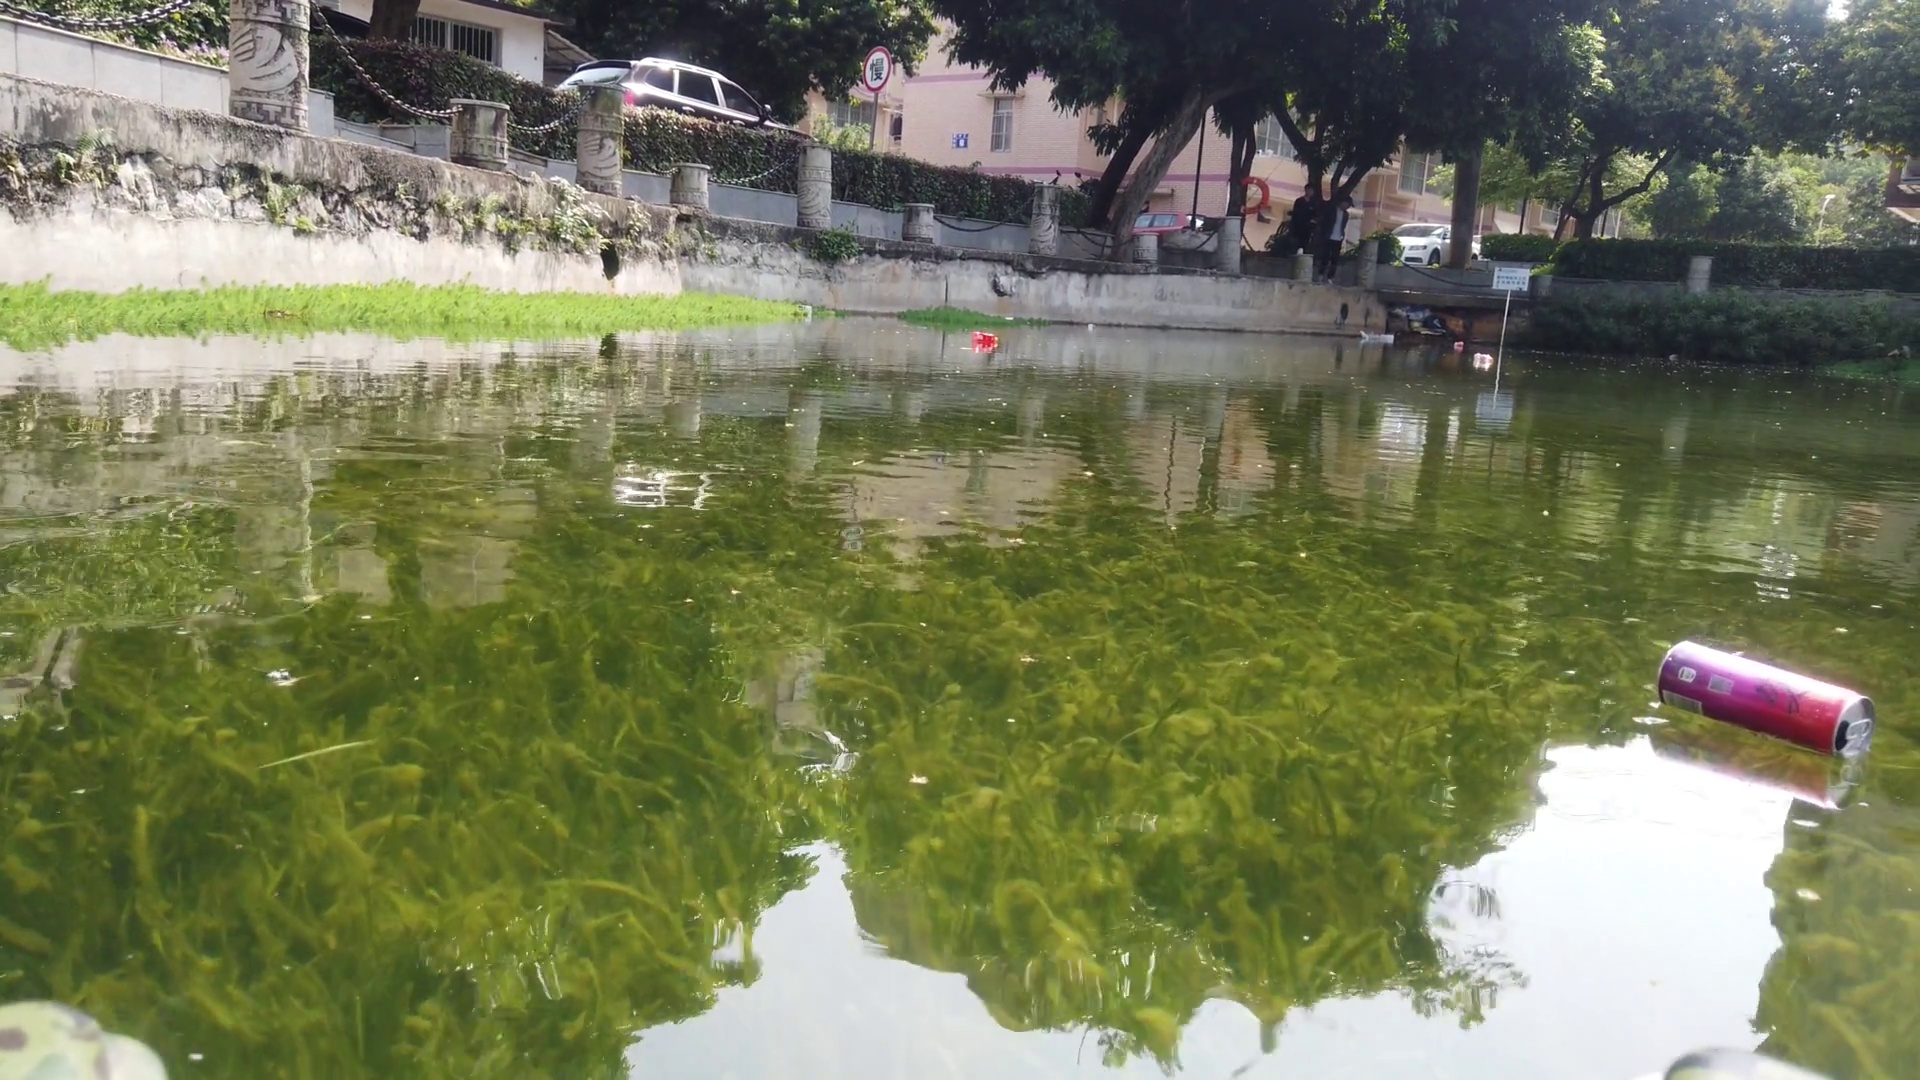bottle: (1654, 632, 1883, 766), (1469, 351, 1501, 365), (973, 330, 1000, 345), (1451, 338, 1469, 351)
carton: (794, 303, 814, 320), (1085, 320, 1101, 338), (1379, 332, 1393, 340)
plastic: (1360, 324, 1378, 339)
